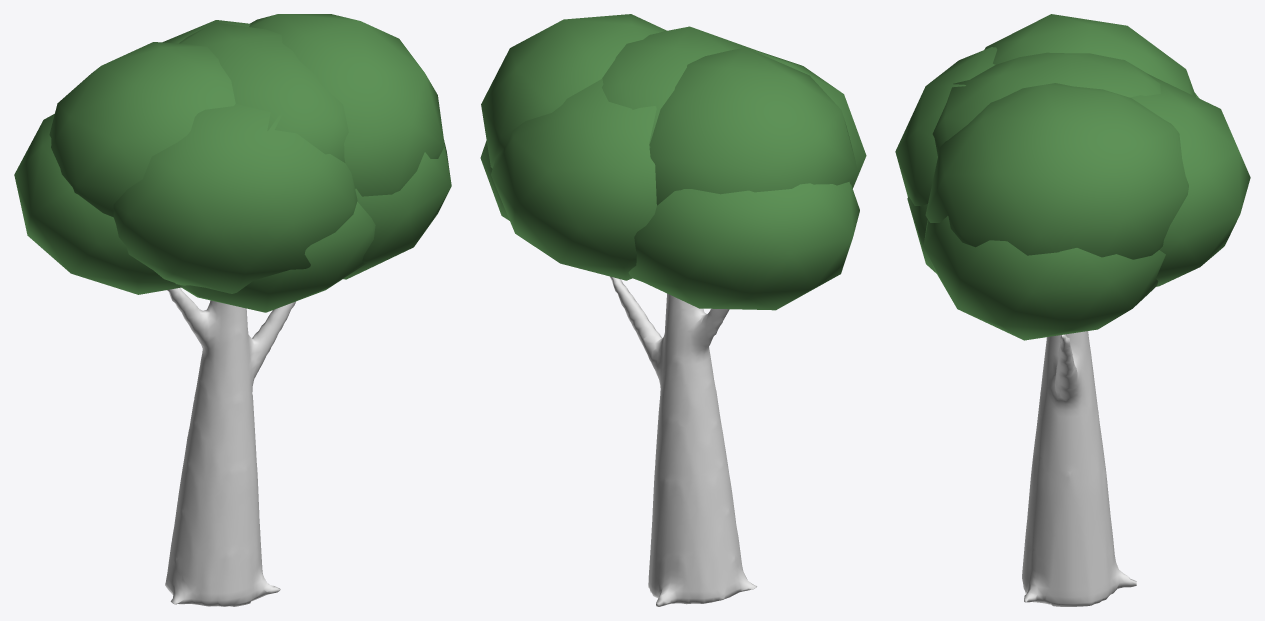
Rendered from NaturalTree_05_RightLean.fbx.
3 renders of one model, left to right at view 1: azimuth 30°, elevation 25°; view 2: azimuth 150°, elevation 25°; view 3: azimuth 270°, elevation 25°, orthographic.
Parts seen in each view (by area): view 1: Foliage_03.004, Trunk.004, Foliage_01.004, Foliage_02.004, Foliage_05.004, Foliage_00.004, Foliage_07.004, Foliage_06.004; view 2: Foliage_01.004, Trunk.004, Foliage_05.004, Foliage_04.004, Foliage_02.004, Foliage_00.004, Foliage_03.004; view 3: Foliage_02.004, Trunk.004, Foliage_06.004, Foliage_04.004, Foliage_00.004, Foliage_01.004, Foliage_03.004, Foliage_07.004.
Part boxes in pixels (bbox=[...]): Foliage_03.004: bbox=[113, 104, 357, 293]; Trunk.004: bbox=[165, 287, 295, 606]; Foliage_01.004: bbox=[49, 42, 235, 217]; Foliage_02.004: bbox=[249, 14, 444, 196]; Foliage_05.004: bbox=[14, 114, 181, 294]; Foliage_00.004: bbox=[179, 22, 348, 162]; Foliage_07.004: bbox=[180, 202, 375, 312]; Foliage_06.004: bbox=[343, 140, 451, 279]; Foliage_01.004: bbox=[649, 47, 857, 205]; Trunk.004: bbox=[610, 276, 756, 606]; Foliage_05.004: bbox=[628, 181, 859, 310]; Foliage_04.004: bbox=[491, 78, 656, 280]; Foliage_02.004: bbox=[481, 14, 666, 168]; Foliage_00.004: bbox=[602, 26, 754, 147]; Foliage_03.004: bbox=[740, 45, 866, 188]; Foliage_02.004: bbox=[925, 83, 1188, 259]; Trunk.004: bbox=[1022, 331, 1136, 606]; Foliage_06.004: bbox=[923, 216, 1165, 340]; Foliage_04.004: bbox=[1130, 74, 1250, 286]; Foliage_00.004: bbox=[932, 52, 1160, 156]; Foliage_01.004: bbox=[984, 14, 1195, 96]; Foliage_03.004: bbox=[895, 47, 997, 206]; Foliage_07.004: bbox=[907, 196, 936, 273].
Size of the model in its own units: 2.14 by 2.91 by 1.72.
